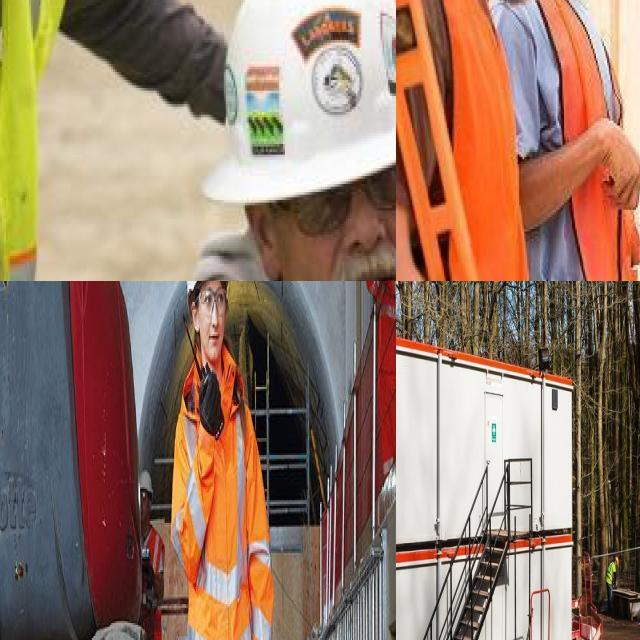face_nomask: (284, 162, 396, 281), (194, 281, 230, 362)
glasses: (286, 149, 396, 237), (193, 281, 228, 324)
hand_glove: (192, 364, 224, 446)
hand_noglove: (596, 104, 640, 229)
head_helmet: (202, 0, 396, 186), (140, 472, 152, 496)
person: (141, 0, 396, 281), (405, 0, 549, 281), (512, 0, 640, 281), (175, 281, 271, 640), (365, 281, 396, 471), (138, 473, 166, 640), (606, 554, 618, 612)
vest: (397, 0, 524, 281), (529, 0, 636, 281), (174, 360, 274, 640), (0, 0, 73, 281), (604, 560, 616, 590)
